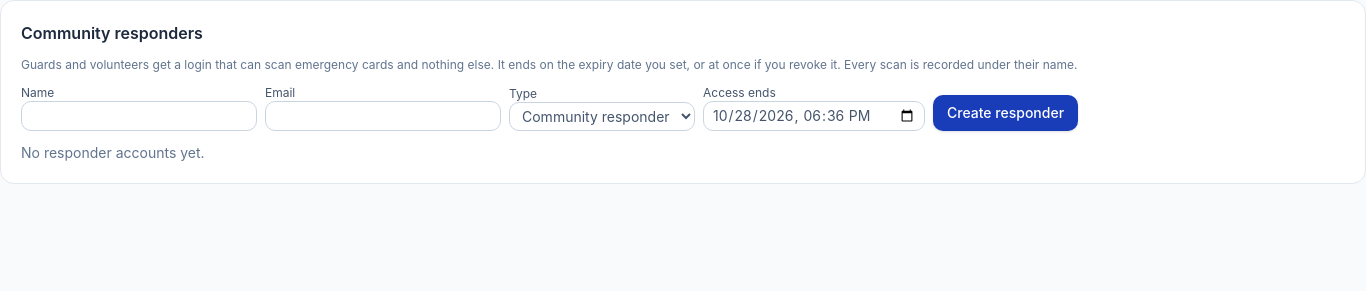
Test: RespondersTab › creates a responder with a timezone-qualified expiry and shows the password once
Expected: the text "No responder accounts yet." is shown, [21,144,205,161]
In the field labelled "Name": point(139, 116) [21,101,257,131], type "Guard Ali"
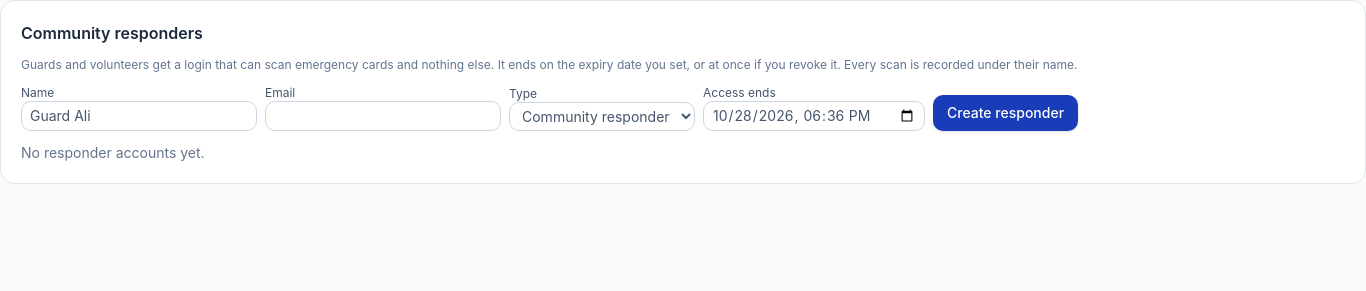
In the field labelled "Email": point(383, 116) [265,101,501,131], type "g@x.my"
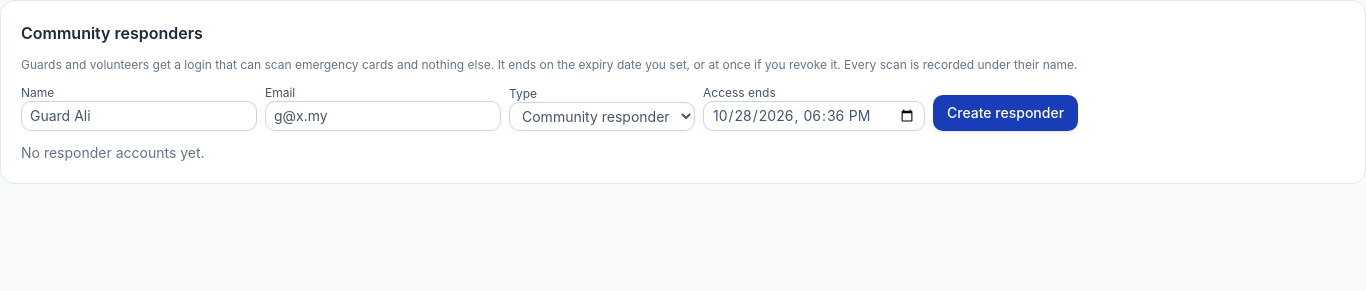
Select "Paramedic crew" in the dropdown labelled "Type": point(602, 116) [509,102,695,131]
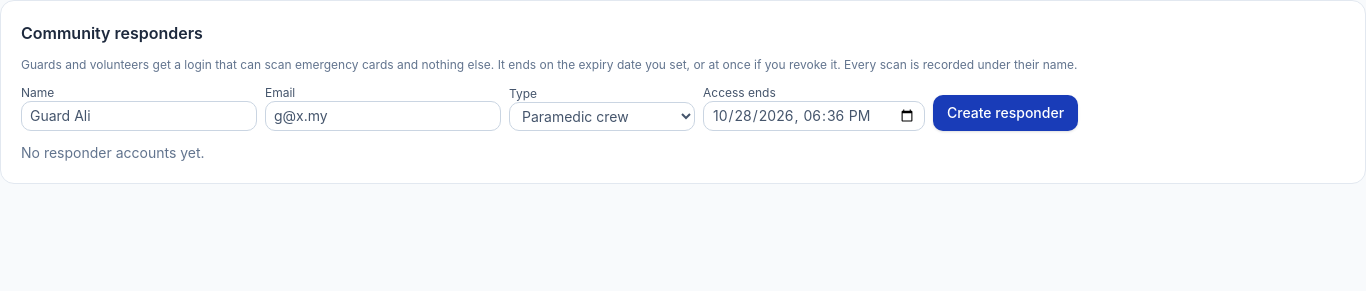
Click the button "Create responder": point(1006, 113) [933,95,1078,131]
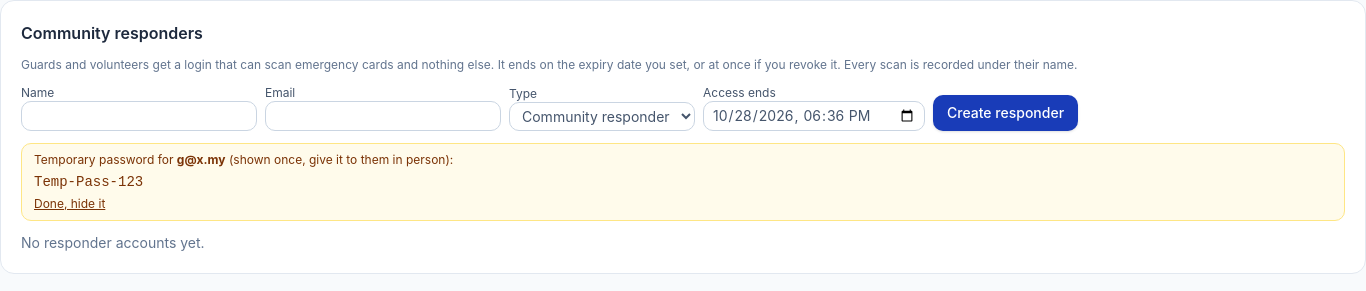
Expected: the text "Temp-Pass-123" is shown, [34,174,143,190]
Click the button "Done, hide it": point(70, 204) [34,196,105,212]
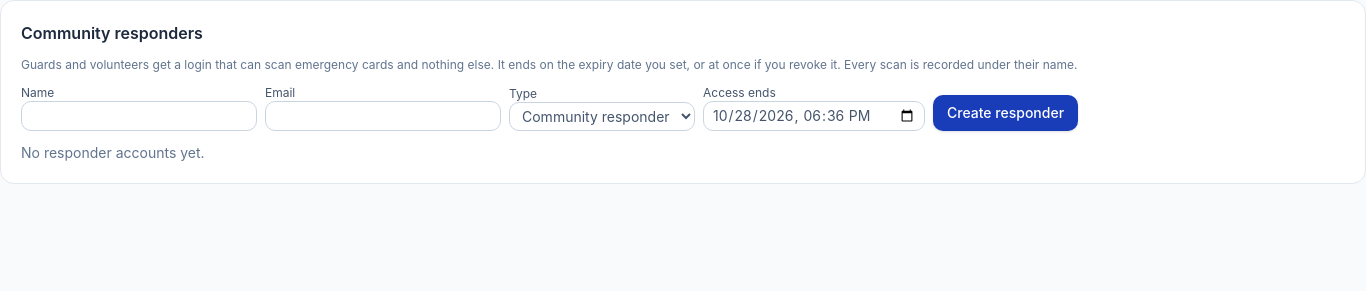
Expected: the text "Temp-Pass-123" is gone
